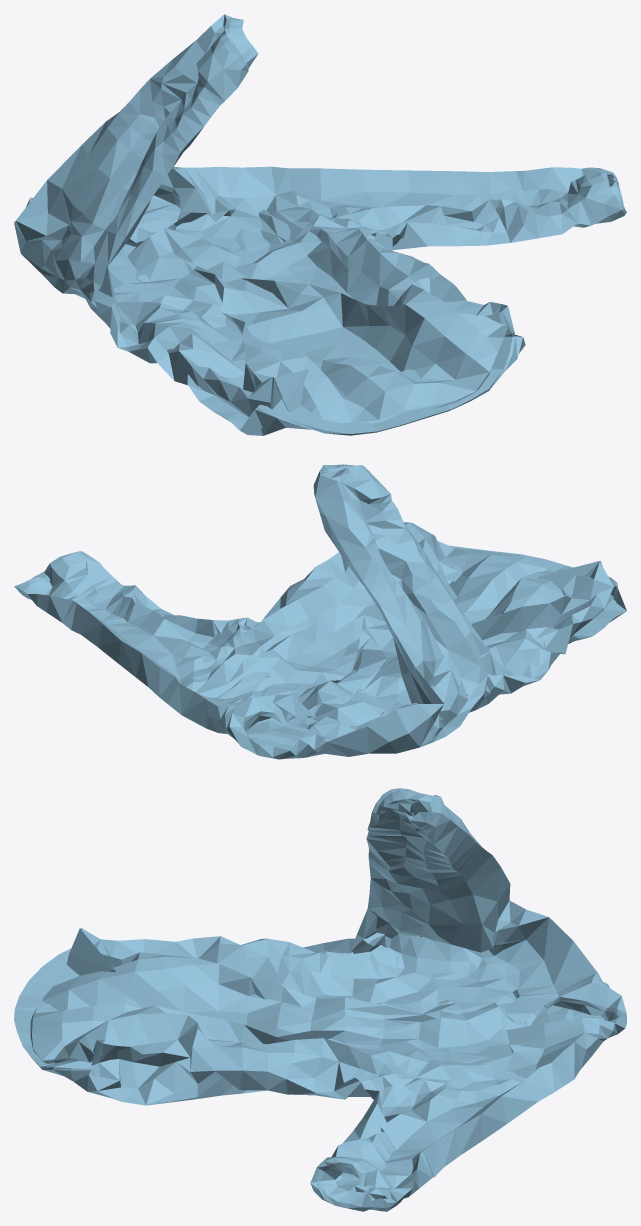
File: frame_16.glb
3 renders of one model, top to bottom at view 1: azimuth 30°, elevation 25°; view 2: azimuth 150°, elevation 25°; view 3: azimuth 270°, elevation 25°, orthographic. The views are drawn at different scales.
Visible parts, largest first — view 1: frame_16.obj; view 2: frame_16.obj; view 3: frame_16.obj.
Part boxes in pixels (x1,y1,x2,y2): frame_16.obj: [14, 14, 626, 435]; frame_16.obj: [14, 464, 626, 759]; frame_16.obj: [14, 788, 626, 1211].
Bounding box in the file's own units: 1.4 × 0.6626 × 1.39.
